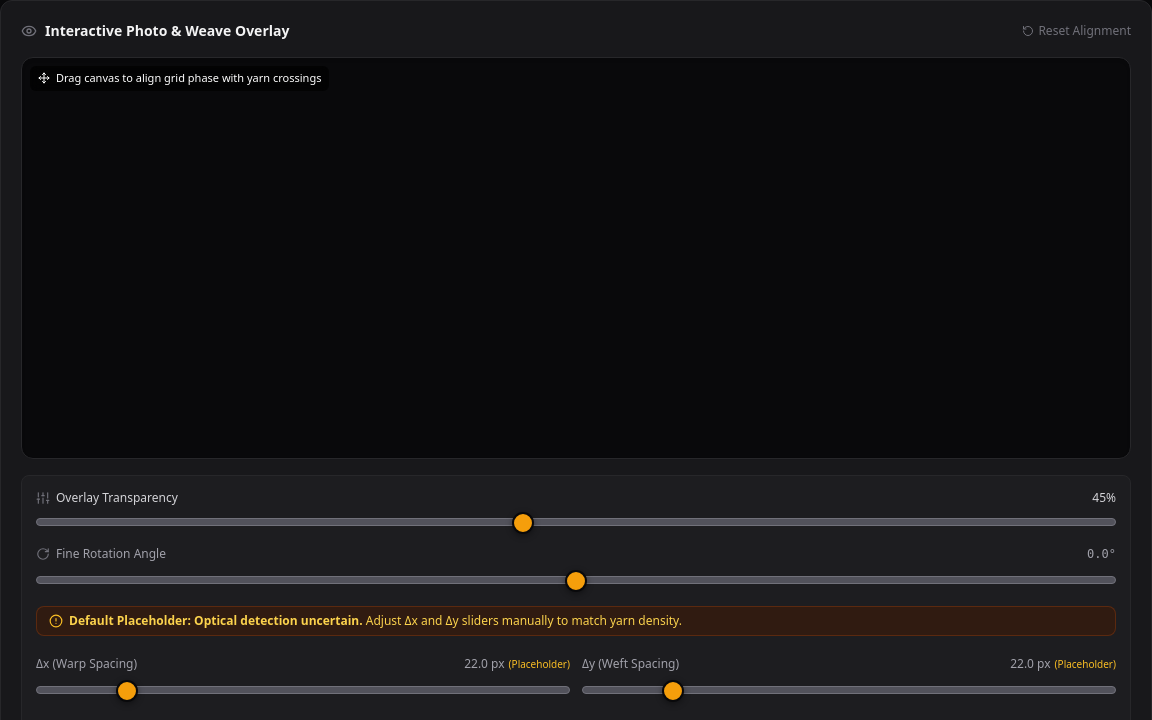
it: Issue #4: Canvas Overlay Fine Rotation Angle and Wale Mirroring › renders fine rotation angle slider with range from -15 to +15 and 0.1 step
// Change angle to 4.5 degrees
Step 1. Set the slider named "fine rotation angle" to "4.5" → [736, 580], box [36,576,1116,584]
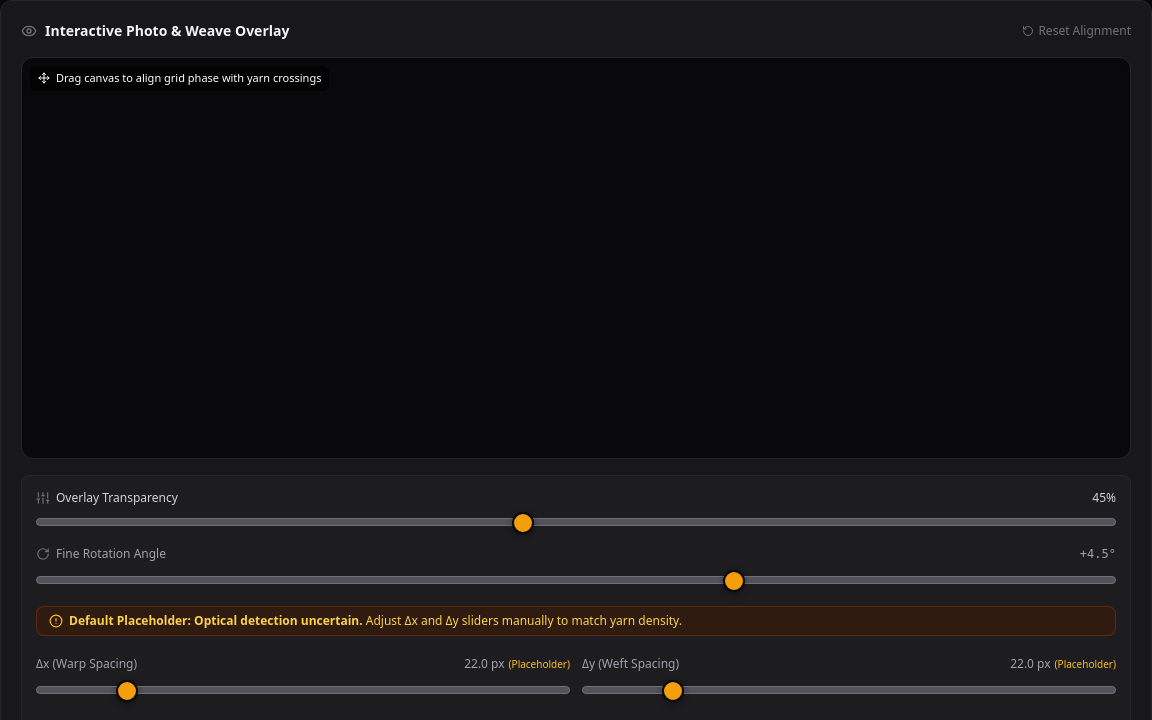
expect the text "+4.5°" is shown: met, box [1080,546,1116,562]
